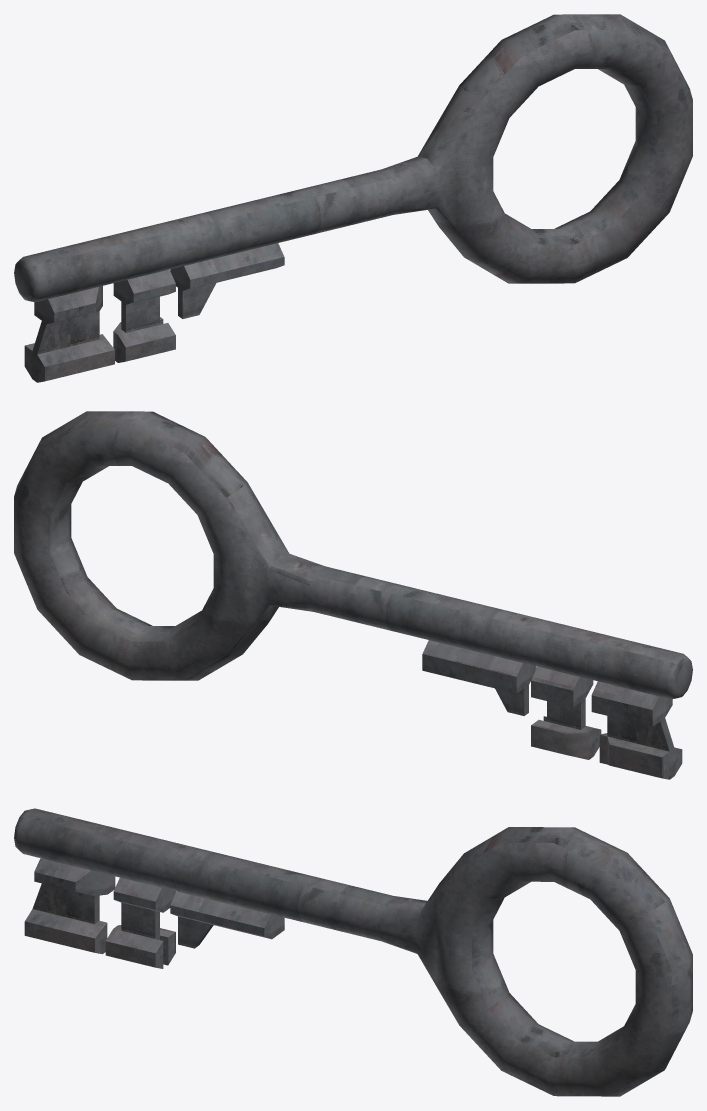
File: item_key_challengearena.glb
The picture shows the model from 3 angles, top to bottom: view 1: azimuth 30°, elevation 25°; view 2: azimuth 150°, elevation 25°; view 3: azimuth 330°, elevation 25°; orthographic projection.
Visible parts, largest first — view 1: ChallengeArenaKey_Easy; view 2: ChallengeArenaKey_Easy; view 3: ChallengeArenaKey_Easy.
Boxes of the visible parts, <box> form: ChallengeArenaKey_Easy: <box>14,14,692,382</box>; ChallengeArenaKey_Easy: <box>14,411,692,779</box>; ChallengeArenaKey_Easy: <box>14,808,692,1096</box>.
Size of the model in its own units: 1.17 by 0.4502 by 0.0915.
Materials: 1 (1 with a texture image).
